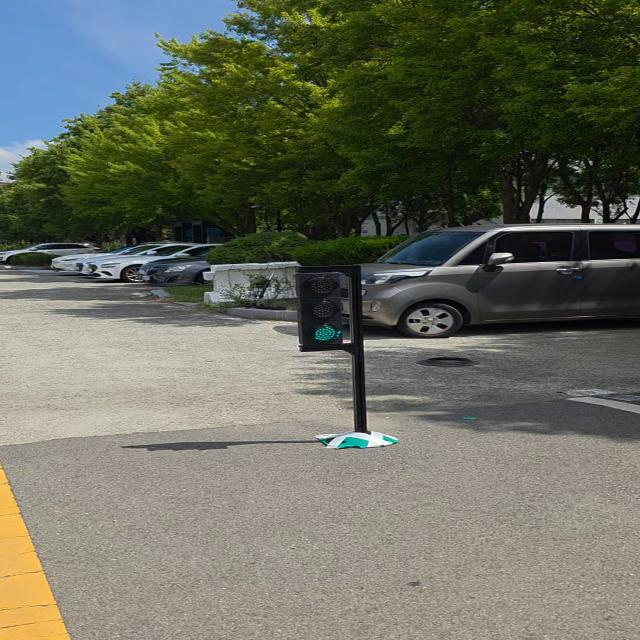green: (293, 263, 360, 352)
